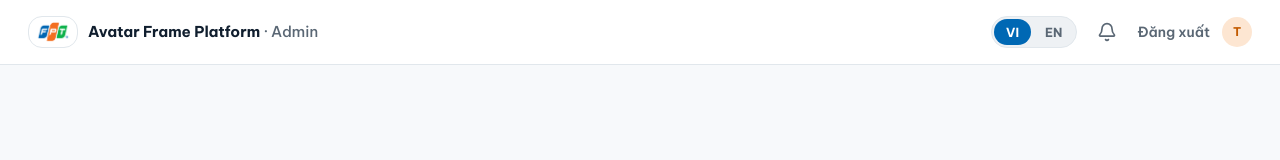
Test: AdminHeader › switches the logout label to English when EN is selected
Step 1. Click the button "EN" → (1054,32), box [1033,19,1074,45]
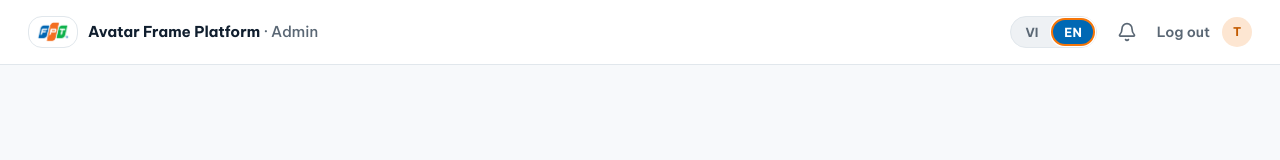
Expected: the button "Log out" is shown, [1157,22,1210,42]
